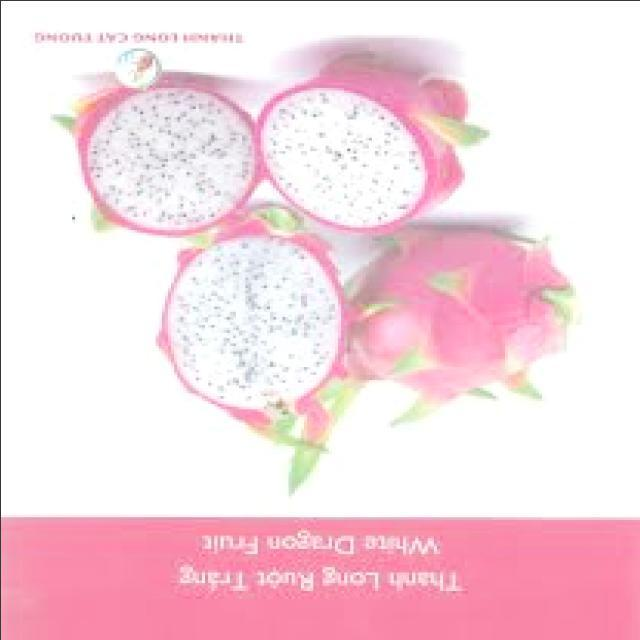trang: (154, 211, 346, 505), (342, 228, 584, 430), (255, 51, 480, 234), (44, 61, 254, 246)
